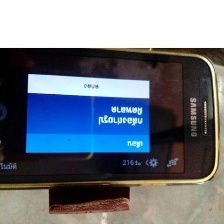phone: (0, 42, 221, 193)
